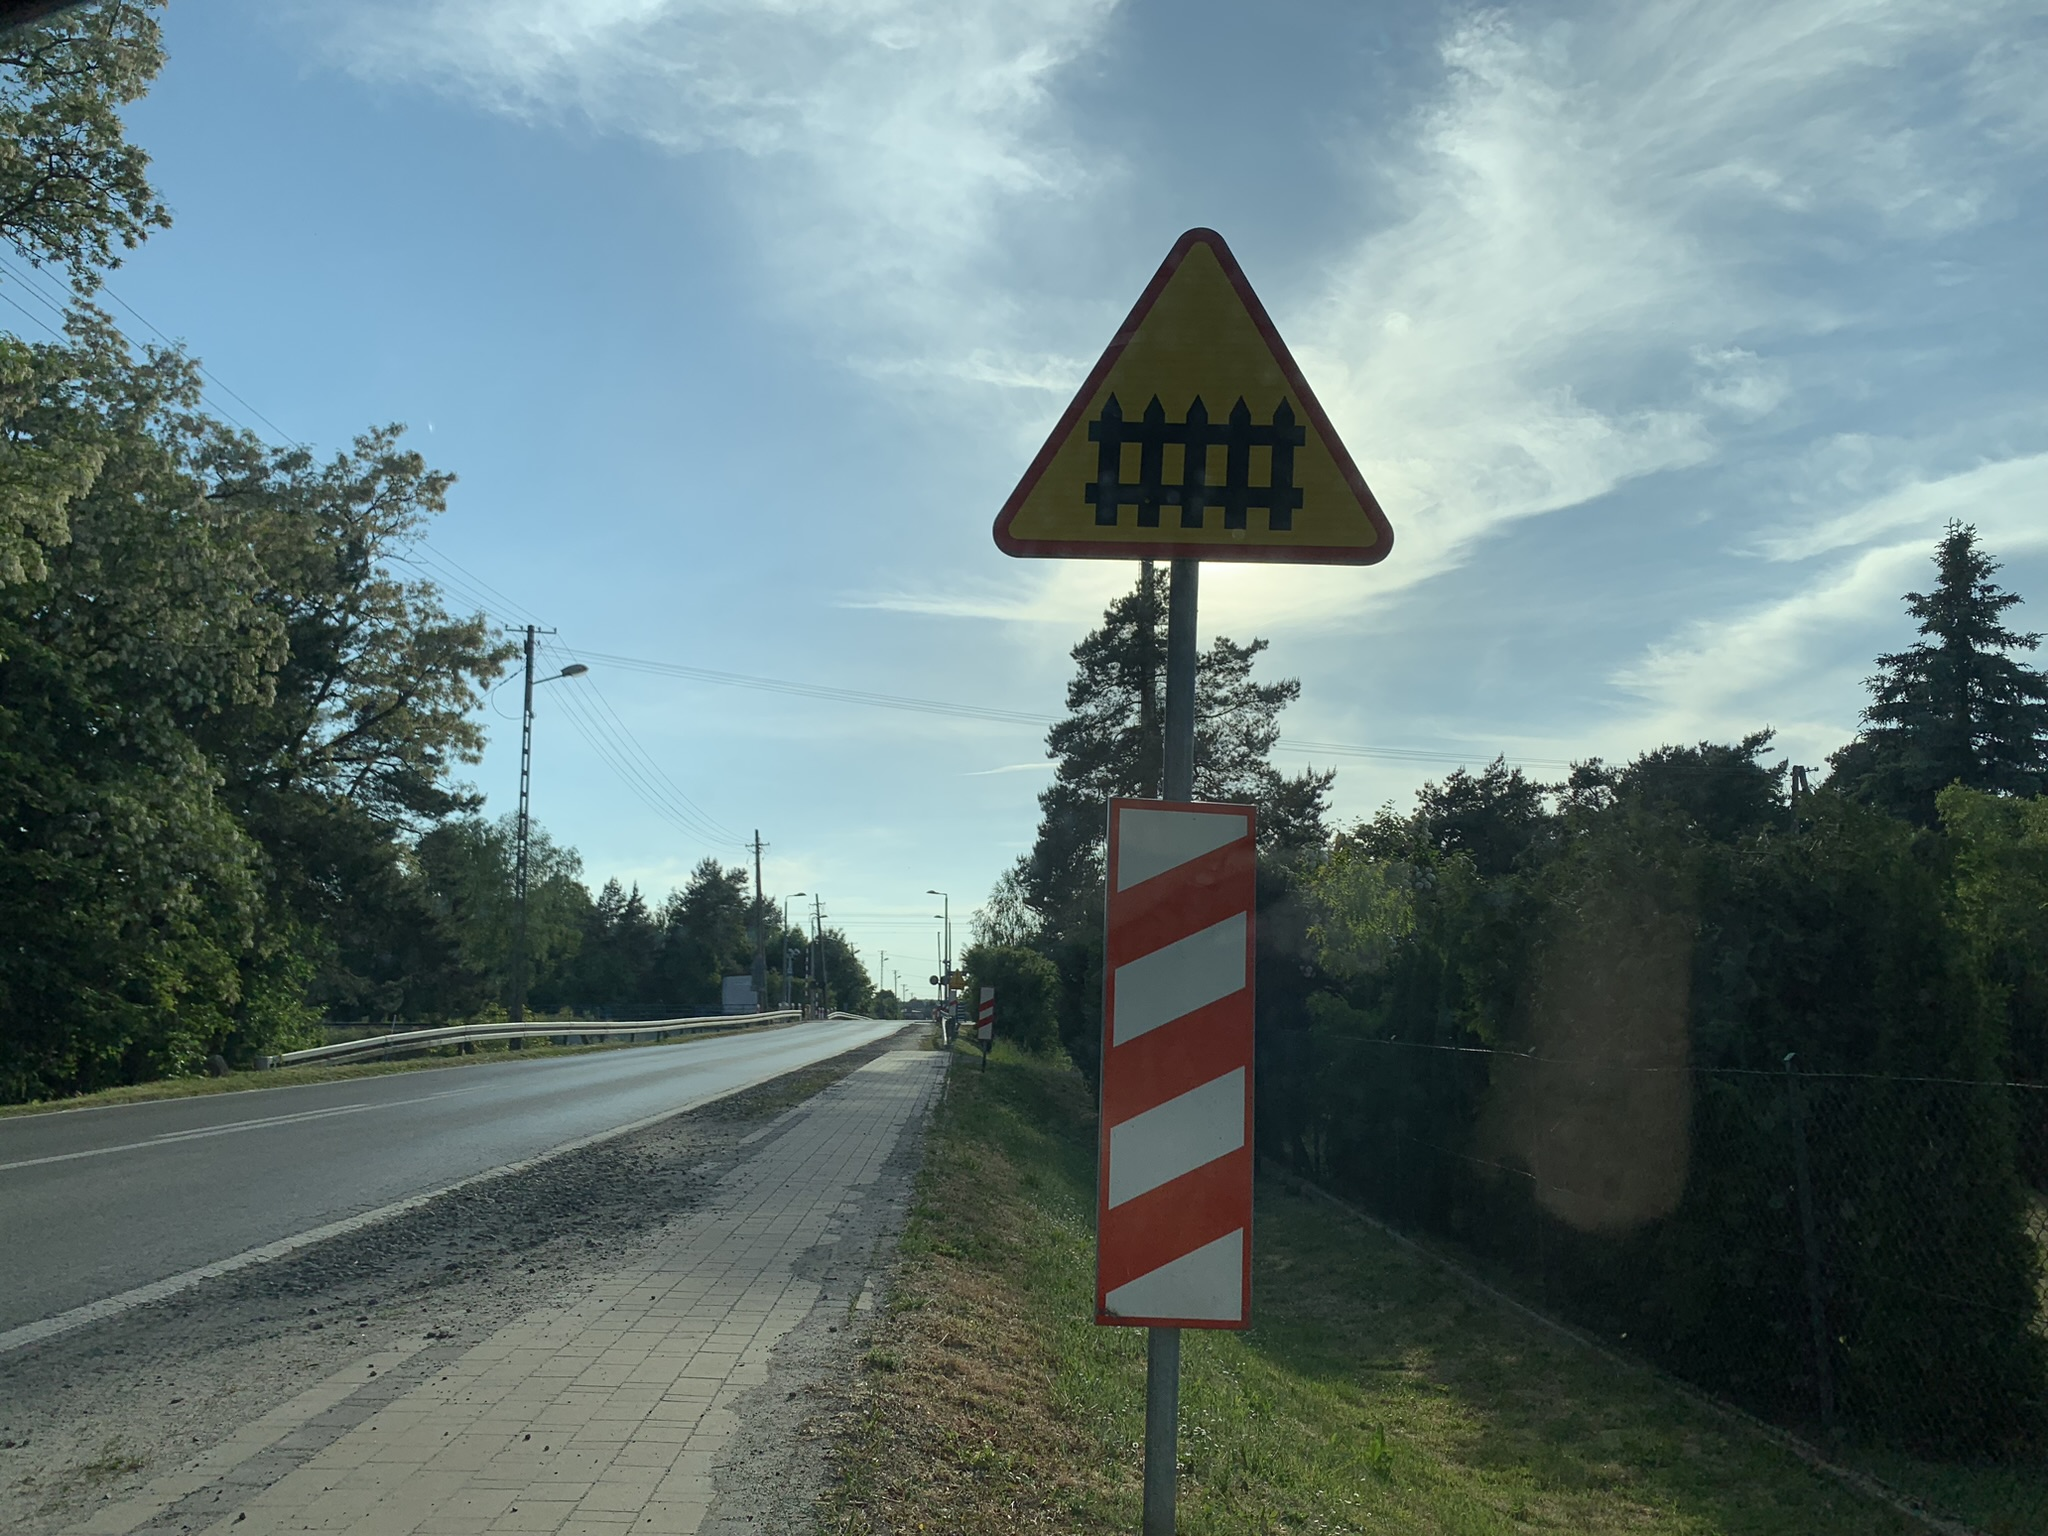a9: (1072, 382, 1321, 550)
